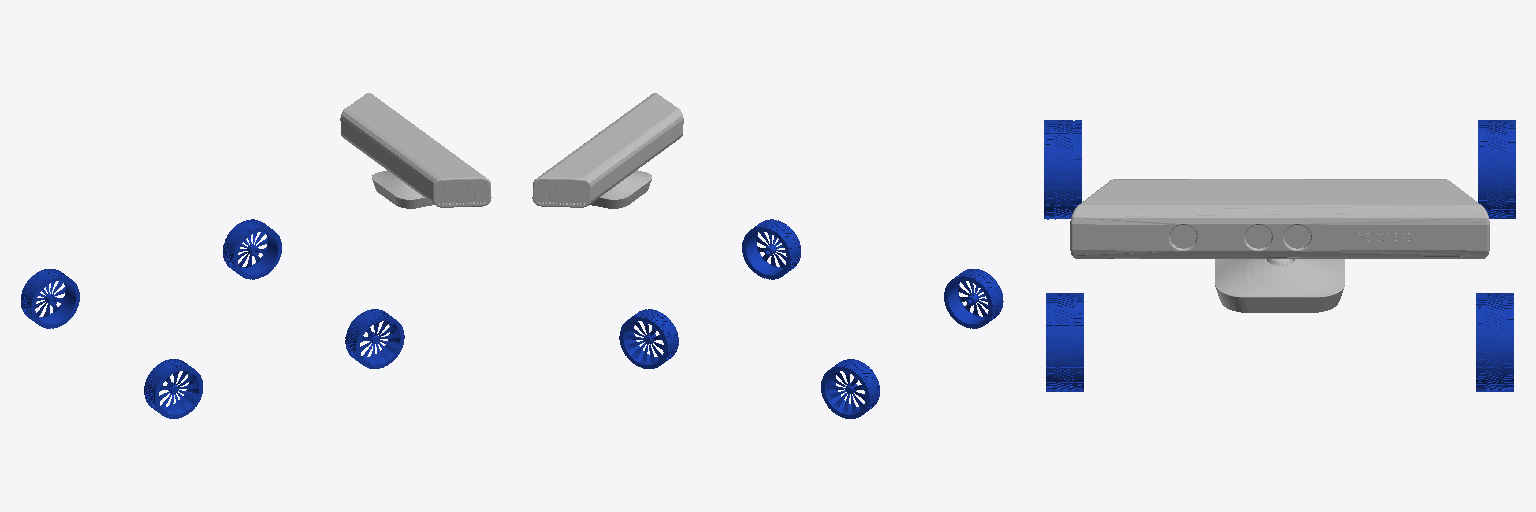
URDF robot description (fire):
<?xml version="1.0" encoding="utf-8"?>
<!-- This URDF was automatically created by SolidWorks to URDF Exporter! Originally created by [author] ([email redacted]) 
     Commit Version: 1.6.0-4-g7f85cfe  Build Version: 1.6.7995.38578
     For more information, please see http://wiki.ros.org/sw_urdf_exporter -->
<robot
  name="fire">
  <link
    name="base_link">
    <inertial>
      <origin
        xyz="0.0117186720013172 0.000615737127498456 0.0737447557534584"
        rpy="0 0 0" />
      <mass
        value="7.40767274847703" />
      <inertia
        ixx="0.0201265059763376"
        ixy="4.83220157549933E-05"
        ixz="0.00035588187017826"
        iyy="0.0877053210233417"
        iyz="-8.50329739925792E-08"
        izz="0.104140290189316" />
    </inertial>
    <visual>
      <origin
        xyz="0 0 0"
        rpy="0 0 0" />
      <geometry>
        <mesh
          filename="package://fire/meshes/base_link.STL" />
      </geometry>
      <material
        name="">
        <color
          rgba="0.792156862745098 0.819607843137255 0.933333333333333 1" />
      </material>
    </visual>
    <collision>
      <origin
        xyz="0 0 0"
        rpy="0 0 0" />
      <geometry>
        <mesh
          filename="package://fire/meshes/base_link.STL" />
      </geometry>
    </collision>
  </link>
  <link
    name="back_left_link">
    <inertial>
      <origin
        xyz="1.44665675050337E-07 -0.00380084590354937 -3.19199060093076E-06"
        rpy="0 0 0" />
      <mass
        value="0.0266105375345581" />
      <inertia
        ixx="1.29438381230299E-05"
        ixy="1.61554402451136E-11"
        ixz="-1.66161731486118E-11"
        iyy="2.31364492685737E-05"
        iyz="-3.5669156995827E-10"
        izz="1.29442042816616E-05" />
    </inertial>
    <visual>
      <origin
        xyz="0 0 0"
        rpy="0 0 0" />
      <geometry>
        <mesh
          filename="package://fire/meshes/back_left_link.STL" />
      </geometry>
      <material
        name="">
        <color
          rgba="0.137254901960784 0.294117647058824 0.749019607843137 1" />
      </material>
    </visual>
    <collision>
      <origin
        xyz="0 0 0"
        rpy="0 0 0" />
      <geometry>
        <mesh
          filename="package://fire/meshes/back_left_link.STL" />
      </geometry>
    </collision>
  </link>
  <joint
    name="back_left_joint"
    type="continuous">
    <origin
      xyz="-0.139 0.14825 0.022125"
      rpy="0 0 0" />
    <parent
      link="base_link" />
    <child
      link="back_left_link" />
    <axis
      xyz="0 1 0" />
    <limit
      effort="1"
      velocity="1" />
  </joint>
  <link
    name="back_right_link">
    <inertial>
      <origin
        xyz="3.08270909188391E-07 0.00380084589143934 -3.18130228973285E-06"
        rpy="0 0 0" />
      <mass
        value="0.0266105377316007" />
      <inertia
        ixx="1.29438407994089E-05"
        ixy="-3.45265598181412E-11"
        ixz="-3.53781289596299E-11"
        iyy="2.31364491384134E-05"
        iyz="3.55213306491868E-10"
        izz="1.29442014692118E-05" />
    </inertial>
    <visual>
      <origin
        xyz="0 0 0"
        rpy="0 0 0" />
      <geometry>
        <mesh
          filename="package://fire/meshes/back_right_link.STL" />
      </geometry>
      <material
        name="">
        <color
          rgba="0.137254901960784 0.294117647058824 0.749019607843137 1" />
      </material>
    </visual>
    <collision>
      <origin
        xyz="0 0 0"
        rpy="0 0 0" />
      <geometry>
        <mesh
          filename="package://fire/meshes/back_right_link.STL" />
      </geometry>
    </collision>
  </link>
  <joint
    name="back_right_joint "
    type="continuous">
    <origin
      xyz="-0.13871 -0.14825 0.022125"
      rpy="0 0 0" />
    <parent
      link="base_link" />
    <child
      link="back_right_link" />
    <axis
      xyz="0 -1 0" />
    <limit
      effort="1"
      velocity="1" />
  </joint>
  <link
    name="kinect_link">
    <inertial>
      <origin
        xyz="-0.00043834649032698 5.58171858266304E-05 0.0269341385758325"
        rpy="0 0 0" />
      <mass
        value="0.65866273137241" />
      <inertia
        ixx="0.00298617284212926"
        ixy="-9.3652278460223E-07"
        ixz="2.03321761331784E-06"
        iyy="0.000269654879256265"
        iyz="1.42502041857102E-08"
        izz="0.00311159419429677" />
    </inertial>
    <visual>
      <origin
        xyz="0 0 0"
        rpy="0 0 0" />
      <geometry>
        <mesh
          filename="package://fire/meshes/kinect_link.STL" />
      </geometry>
      <material
        name="">
        <color
          rgba="0.752941176470588 0.752941176470588 0.752941176470588 1" />
      </material>
    </visual>
    <collision>
      <origin
        xyz="0 0 0"
        rpy="0 0 0" />
      <geometry>
        <mesh
          filename="package://fire/meshes/kinect_link.STL" />
      </geometry>
    </collision>
  </link>
  <joint
    name="kinect_joint"
    type="fixed">
    <origin
      xyz="0.26522 -1.0534E-05 0.13991"
      rpy="0 -0.01876 0" />
    <parent
      link="base_link" />
    <child
      link="kinect_link" />
    <axis
      xyz="0 0 0" />
    <limit
      effort="1"
      velocity="1" />
  </joint>
  <link
    name="front_left">
    <inertial>
      <origin
        xyz="-1.7030495226833E-06 -0.00380084562504548 -2.70362347685321E-06"
        rpy="0 0 0" />
      <mass
        value="0.0266105387640075" />
      <inertia
        ixx="1.29439420174123E-05"
        ixy="-1.90398986733481E-10"
        ixz="1.65832658842716E-10"
        iyy="2.31364494782102E-05"
        iyz="-3.02048626814929E-10"
        izz="1.29441006977168E-05" />
    </inertial>
    <visual>
      <origin
        xyz="0 0 0"
        rpy="0 0 0" />
      <geometry>
        <mesh
          filename="package://fire/meshes/front_left.STL" />
      </geometry>
      <material
        name="">
        <color
          rgba="0.137254901960784 0.294117647058824 0.749019607843137 1" />
      </material>
    </visual>
    <collision>
      <origin
        xyz="0 0 0"
        rpy="0 0 0" />
      <geometry>
        <mesh
          filename="package://fire/meshes/front_left.STL" />
      </geometry>
    </collision>
  </link>
  <joint
    name="front_left_joint"
    type="continuous">
    <origin
      xyz="0.1335 0.14725 0.0225"
      rpy="0 -0.089647 0" />
    <parent
      link="base_link" />
    <child
      link="front_left" />
    <axis
      xyz="0 1 0" />
    <limit
      effort="1"
      velocity="1" />
  </joint>
  <link
    name="front_right">
    <inertial>
      <origin
        xyz="-1.22374648095502E-06 0.00380084555037638 -2.95241676515068E-06"
        rpy="0 0 0" />
      <mass
        value="0.0266105389695809" />
      <inertia
        ixx="1.29438915191923E-05"
        ixy="1.36695330063582E-10"
        ixz="1.30013152386423E-10"
        iyy="2.31364495684863E-05"
        iyz="3.29731512999909E-10"
        izz="1.29441513227905E-05" />
    </inertial>
    <visual>
      <origin
        xyz="0 0 0"
        rpy="0 0 0" />
      <geometry>
        <mesh
          filename="package://fire/meshes/front_right.STL" />
      </geometry>
      <material
        name="">
        <color
          rgba="0.137254901960784 0.294117647058824 0.749019607843137 1" />
      </material>
    </visual>
    <collision>
      <origin
        xyz="0 0 0"
        rpy="0 0 0" />
      <geometry>
        <mesh
          filename="package://fire/meshes/front_right.STL" />
      </geometry>
    </collision>
  </link>
  <joint
    name="front_right_link"
    type="continuous">
    <origin
      xyz="0.1335 -0.14725 0.0225"
      rpy="0 0 0" />
    <parent
      link="base_link" />
    <child
      link="front_right" />
    <axis
      xyz="0 -1 0" />
    <limit
      effort="1"
      velocity="1" />
  </joint>
</robot>

--- What the picture shows (computed from the rendered views, not written in the file) ---
Views: 3 orthographic renders of the robot side by side, from view 1: azimuth 30°, elevation 25°; view 2: azimuth 150°, elevation 25°; view 3: azimuth 270°, elevation 25°.
Model fire with 6 links and 5 joints (4 continuous, 1 fixed), rooted at base_link, posed all joints at 0.
Visible links, largest first — view 1: kinect_link, back_left_link, front_left, back_right_link, front_right; view 2: kinect_link, back_right_link, back_left_link, front_right, front_left; view 3: kinect_link, front_left, front_right, back_right_link, back_left_link.
Boxes of the visible links, x1=… form: kinect_link: x1=340, y1=93, x2=491, y2=208; back_left_link: x1=21, y1=269, x2=79, y2=328; front_left: x1=223, y1=219, x2=281, y2=279; back_right_link: x1=144, y1=359, x2=202, y2=418; front_right: x1=345, y1=309, x2=404, y2=368; kinect_link: x1=532, y1=93, x2=683, y2=208; back_right_link: x1=944, y1=269, x2=1003, y2=328; back_left_link: x1=821, y1=359, x2=879, y2=418; front_right: x1=742, y1=219, x2=800, y2=279; front_left: x1=619, y1=309, x2=678, y2=368; kinect_link: x1=1070, y1=179, x2=1489, y2=312; front_left: x1=1476, y1=293, x2=1513, y2=391; front_right: x1=1046, y1=293, x2=1083, y2=391; back_right_link: x1=1044, y1=120, x2=1081, y2=219; back_left_link: x1=1478, y1=120, x2=1515, y2=218.
Bounding box of the posed robot: 0.4735 × 0.3135 × 0.2037 m (x, y, z).
5 mesh visuals loaded from 6 distinct referenced files (5 binary STL); not drawn: 1 (reference not matched to a file when rendering).